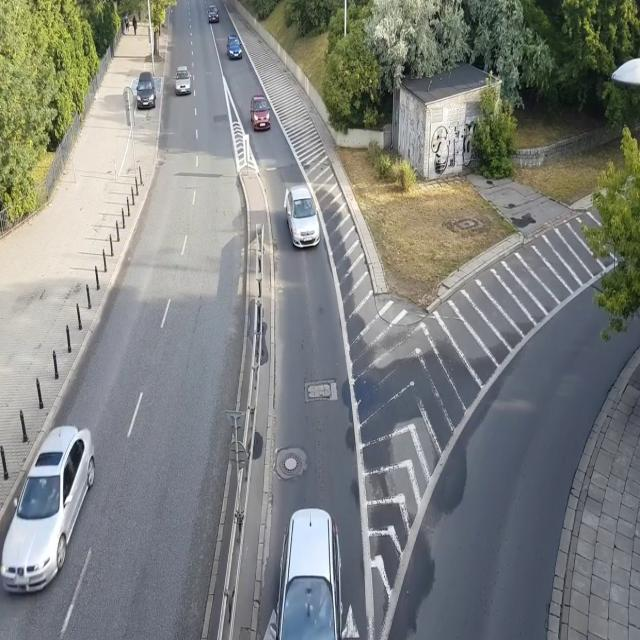car: (1, 423, 96, 596), (276, 506, 344, 640), (285, 185, 320, 248), (250, 94, 272, 132), (136, 70, 156, 110), (174, 65, 192, 96), (226, 35, 242, 61), (208, 5, 220, 25)
